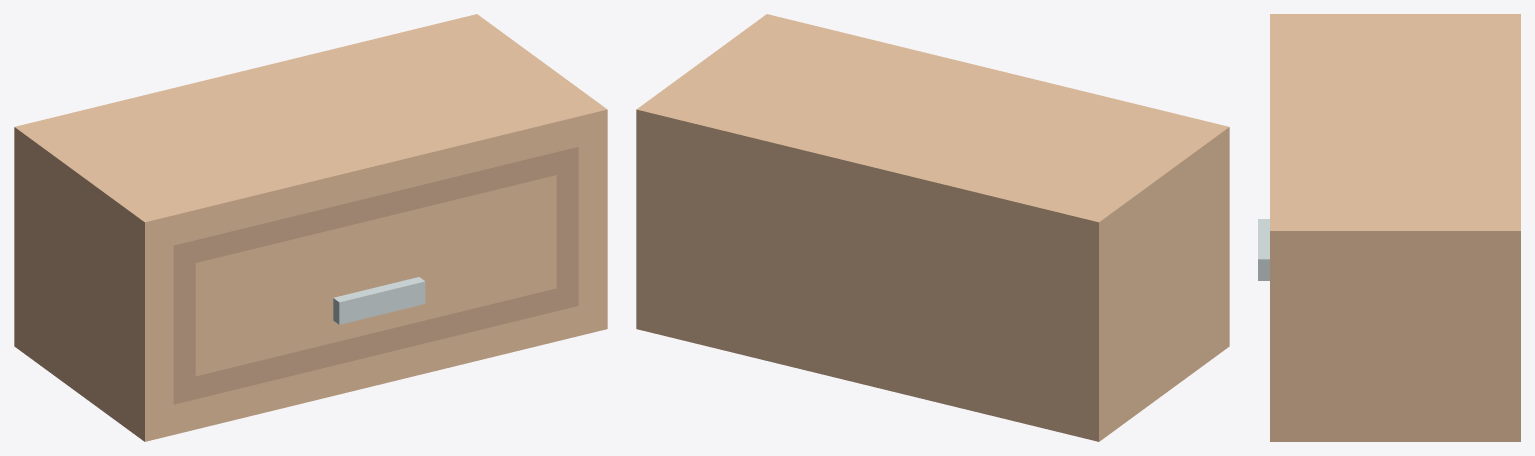
Rendered from kitchenCabinetUpperLow.glb.
3 views of the same model, side by side, from view 1: azimuth 30°, elevation 25°; view 2: azimuth 150°, elevation 25°; view 3: azimuth 270°, elevation 25° (orthographic). The views are drawn at different scales.
Parts seen in each view (by area): view 1: kitchenCabinetUpperLow(Clone), door; view 2: kitchenCabinetUpperLow(Clone); view 3: kitchenCabinetUpperLow(Clone), door.
Boxes of the visible parts, box(x1,y1,x2,y2) form: kitchenCabinetUpperLow(Clone): box(14, 14, 607, 441); door: box(173, 147, 578, 404); kitchenCabinetUpperLow(Clone): box(636, 14, 1229, 441); kitchenCabinetUpperLow(Clone): box(1270, 14, 1520, 441); door: box(1258, 219, 1269, 280).
Bounding box in the file's own units: 0.8729 × 0.3959 × 0.4466.
3 materials, 3 textured.
